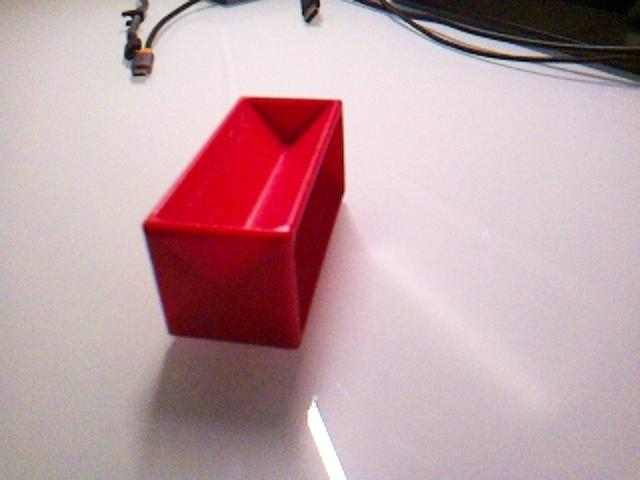red: (141, 94, 347, 350)
